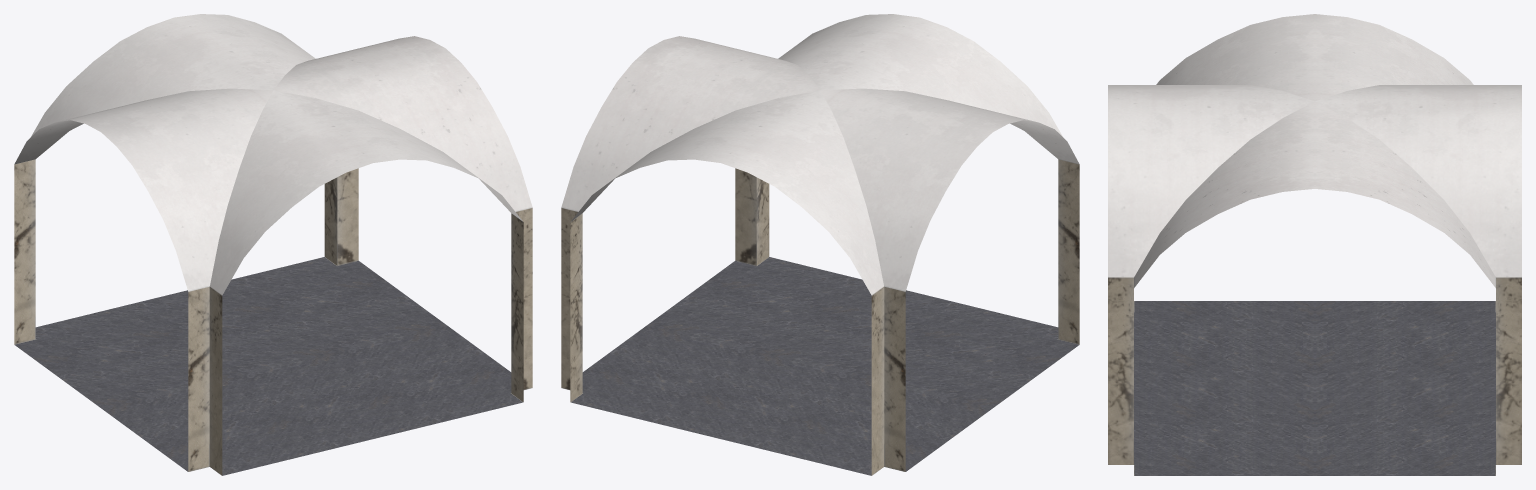
File: interchange junction.fbx
3 renders of one model, left to right at view 1: azimuth 30°, elevation 25°; view 2: azimuth 150°, elevation 25°; view 3: azimuth 270°, elevation 25°, orthographic. The views are drawn at different scales.
Parts seen in each view (by area): view 1: junction_low; view 2: junction_low; view 3: junction_low.
Part boxes in pixels (left/top/right/bottom): junction_low: left=14, top=14, right=532, bottom=475; junction_low: left=561, top=14, right=1079, bottom=475; junction_low: left=1108, top=14, right=1521, bottom=475.
Bounding box in the file's own units: 800 × 800 × 613.
